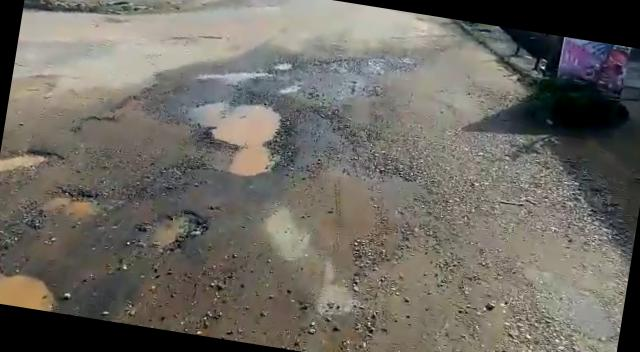pothole: (164, 86, 296, 179), (131, 200, 210, 258), (0, 140, 65, 190), (0, 267, 59, 312), (268, 58, 296, 72)
